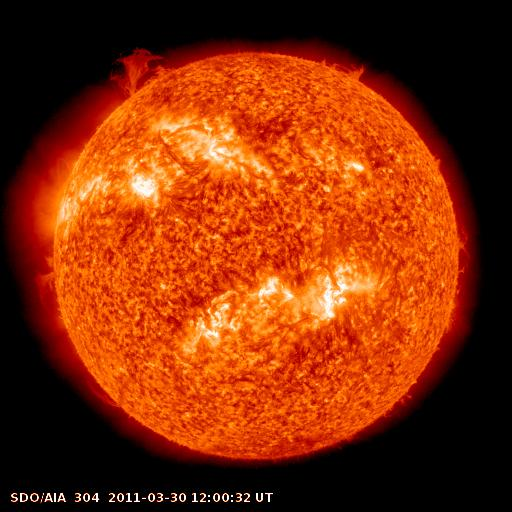prominence: (102, 45, 182, 104), (28, 245, 62, 324), (74, 367, 126, 415), (314, 51, 372, 87), (451, 221, 480, 278)
